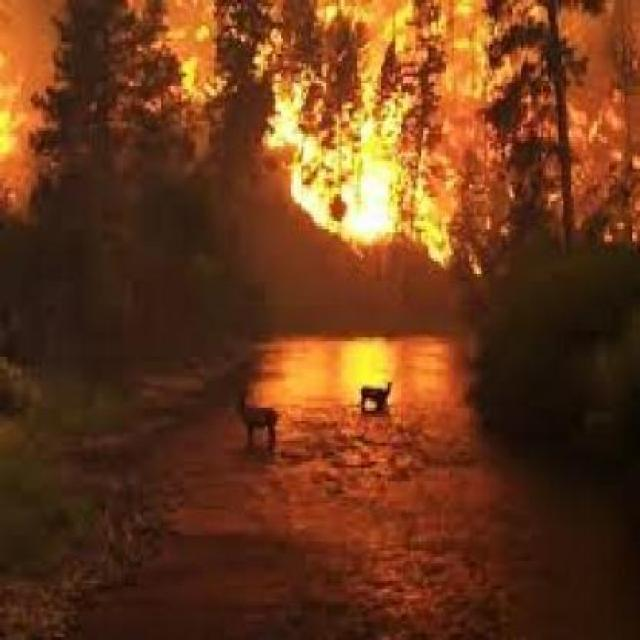Fire: (209, 37, 534, 326)
